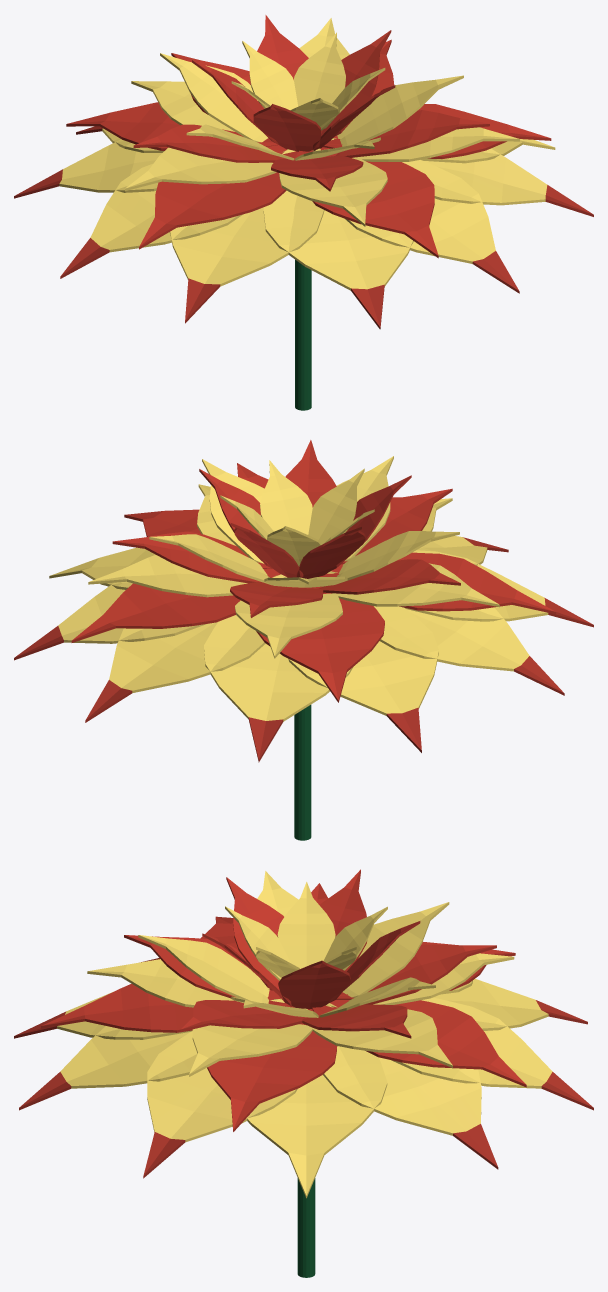
The model's file is Flower_11.fbx.
3 renders of one model, top to bottom at view 1: azimuth 30°, elevation 25°; view 2: azimuth 150°, elevation 25°; view 3: azimuth 270°, elevation 25°, orthographic. The views are drawn at different scales.
Parts seen in each view (by area): view 1: Flower_11; view 2: Flower_11; view 3: Flower_11.
Part boxes in pixels (x1,y1,x2,y2): Flower_11: (14, 15, 593, 410); Flower_11: (14, 440, 593, 840); Flower_11: (14, 869, 593, 1277).
Size of the model in its own units: 746 by 493 by 716.
